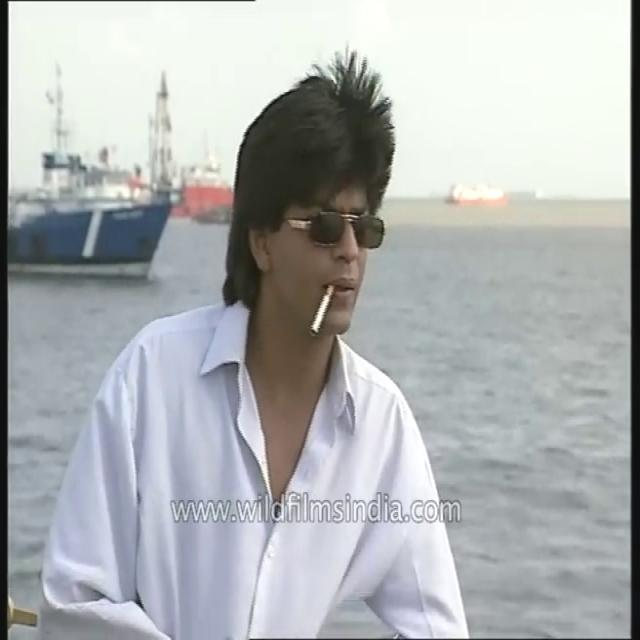Smooking: (300, 283, 342, 348)
